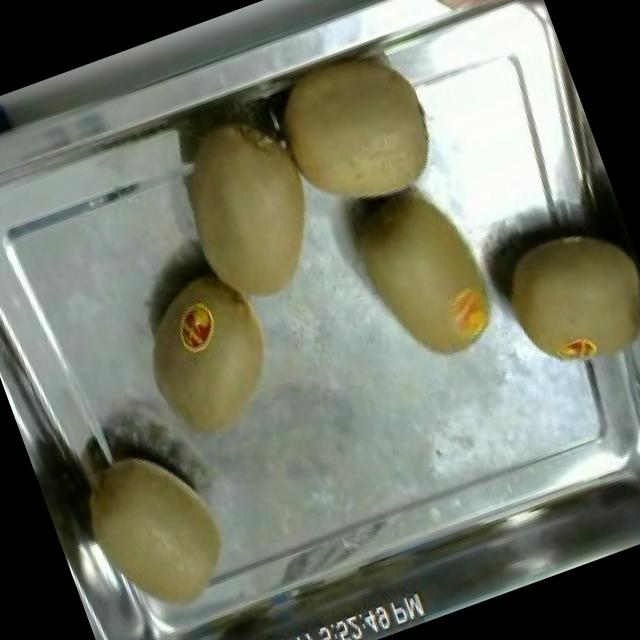Fruit: (144, 90, 340, 330), (327, 156, 526, 388), (58, 424, 255, 638), (264, 32, 463, 234), (116, 251, 308, 460), (484, 206, 640, 395), (395, 0, 547, 50)
